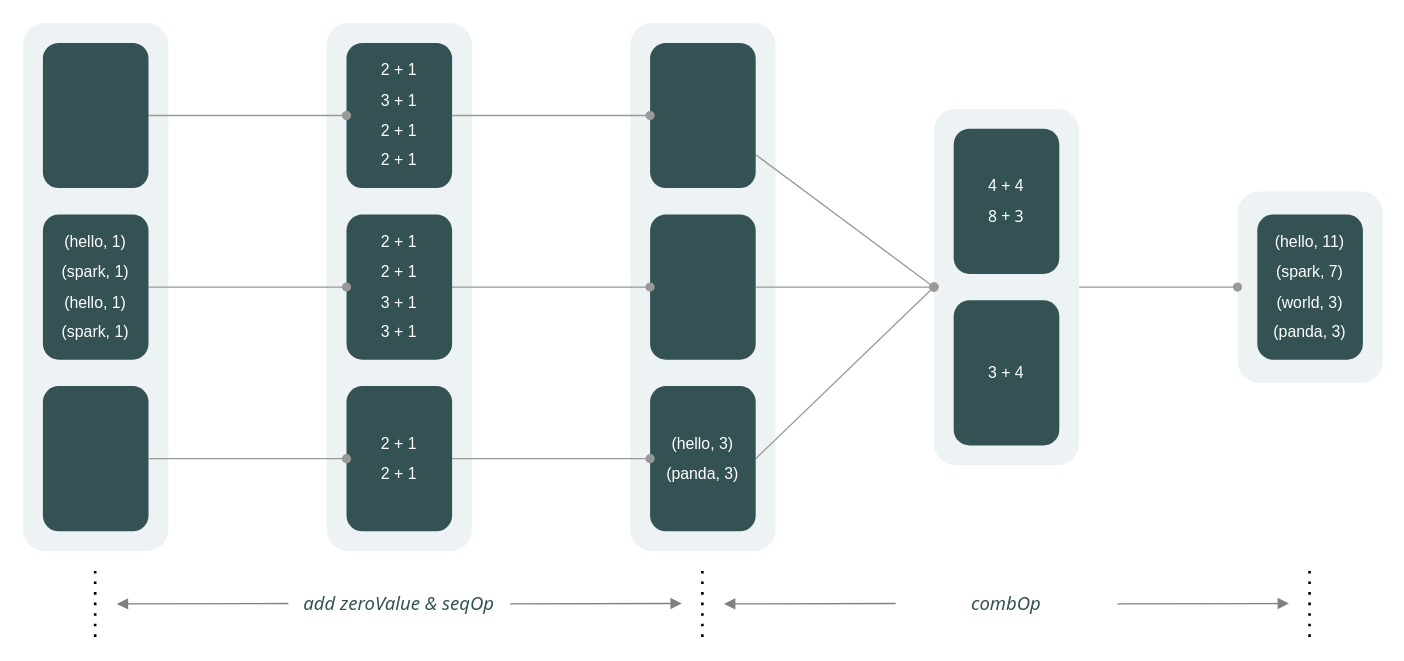
The diagram is 1404 pixels wide and 661 high, and some of its shapes have lost their labels. Here are the shapes that lost their labels. From the top down, the box of each, then its label:
(42, 42, 148, 187): (hello, 1) (hello, 1) (world, 1) (spark, 1)
(649, 42, 755, 187): (hello, 4) (world, 3) (spark, 3)
(649, 214, 755, 359): (hello, 4) (spark, 4)
(42, 385, 148, 531): (hello, 1) (panda, 1)
